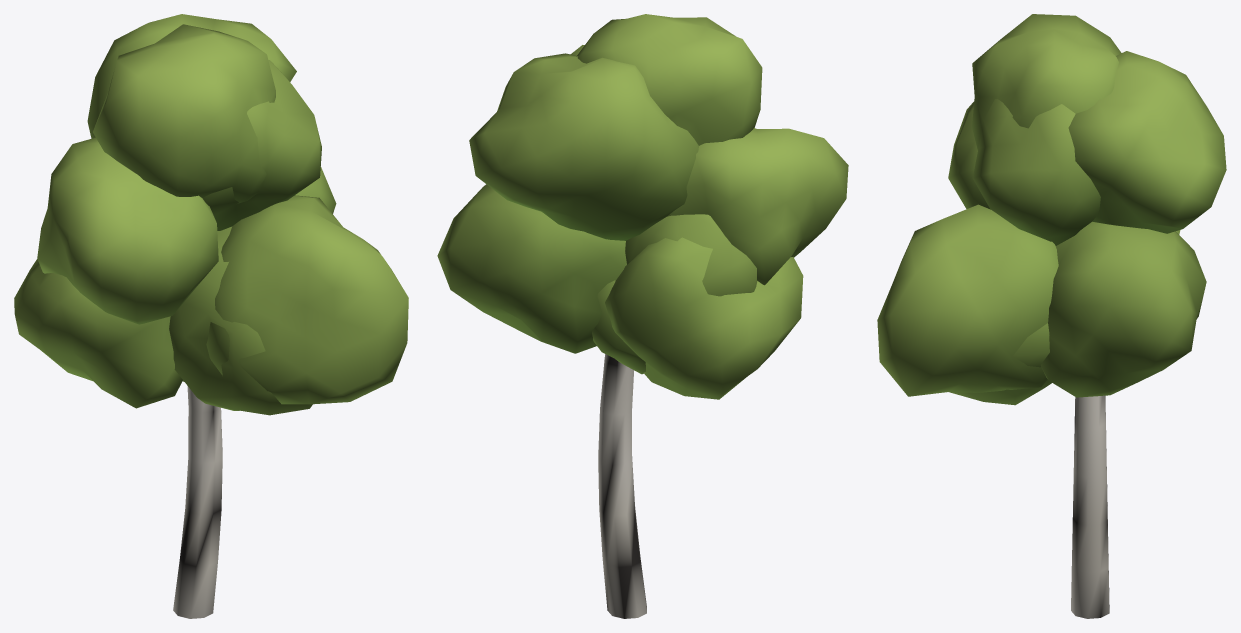
File: cc_arvore_betula.glb
The picture shows the model from 3 angles, left to right: view 1: azimuth 30°, elevation 25°; view 2: azimuth 150°, elevation 25°; view 3: azimuth 270°, elevation 25°; orthographic projection. The views are drawn at different scales.
Parts seen in each view (by area): view 1: cc_arvore_betula_leaf_copa, cc_arvore_betula_tree_casca; view 2: cc_arvore_betula_leaf_copa, cc_arvore_betula_tree_casca; view 3: cc_arvore_betula_leaf_copa, cc_arvore_betula_tree_casca.
Boxes of the visible parts, x1,y1,x2,y2 form: cc_arvore_betula_leaf_copa: (14, 14, 408, 415); cc_arvore_betula_tree_casca: (173, 386, 222, 618); cc_arvore_betula_leaf_copa: (437, 14, 848, 399); cc_arvore_betula_tree_casca: (598, 354, 646, 618); cc_arvore_betula_leaf_copa: (877, 14, 1226, 405); cc_arvore_betula_tree_casca: (1071, 395, 1109, 618).
Size of the model in its own units: 4.68 by 8.18 by 4.55.
